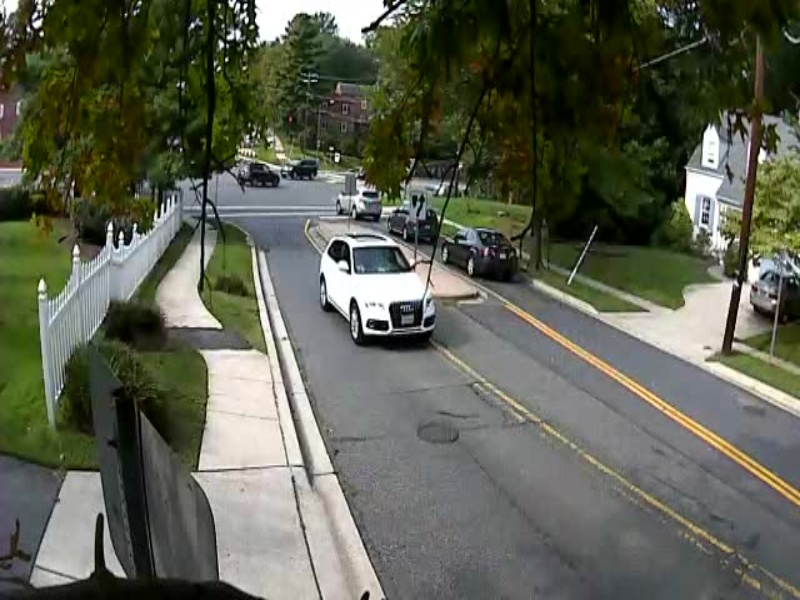car: (441, 225, 523, 284)
suv: (296, 230, 449, 357)
